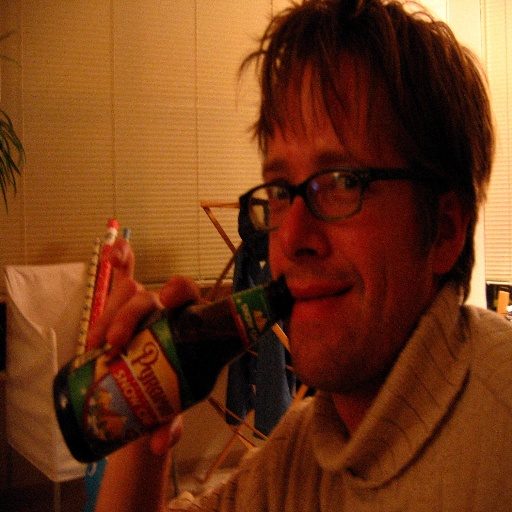hand: (91, 238, 200, 453)
